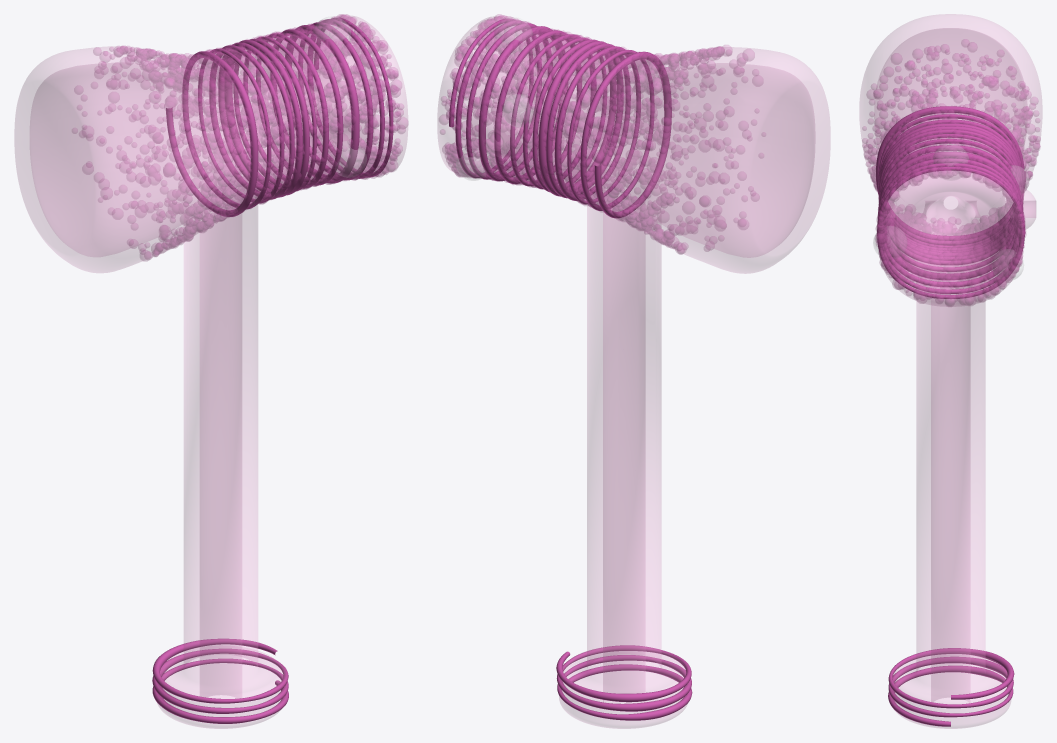
Rendered from hammer_magenta_gold.glb.
3 views of the same model, side by side, from view 1: azimuth 30°, elevation 25°; view 2: azimuth 150°, elevation 25°; view 3: azimuth 270°, elevation 25° (orthographic). The views are drawn at different scales.
Visible parts, largest first — view 1: body, frit, lines, marbles; view 2: body, frit, lines, marbles; view 3: body, frit, lines, marbles.
Boxes of the visible parts, x1=… form: body: x1=14, y1=16, x2=407, y2=728; frit: x1=81, y1=14, x2=408, y2=261; lines: x1=152, y1=17, x2=393, y2=723; marbles: x1=258, y1=16, x2=366, y2=177; body: x1=437, y1=16, x2=830, y2=728; frit: x1=439, y1=14, x2=758, y2=254; lines: x1=449, y1=18, x2=692, y2=720; marbles: x1=456, y1=17, x2=534, y2=180; body: x1=859, y1=14, x2=1042, y2=728; frit: x1=862, y1=39, x2=1040, y2=306; lines: x1=876, y1=106, x2=1026, y2=726; marbles: x1=873, y1=144, x2=1028, y2=279.
Bounding box in the file's own units: 0.0682 × 0.1398 × 0.0371.
